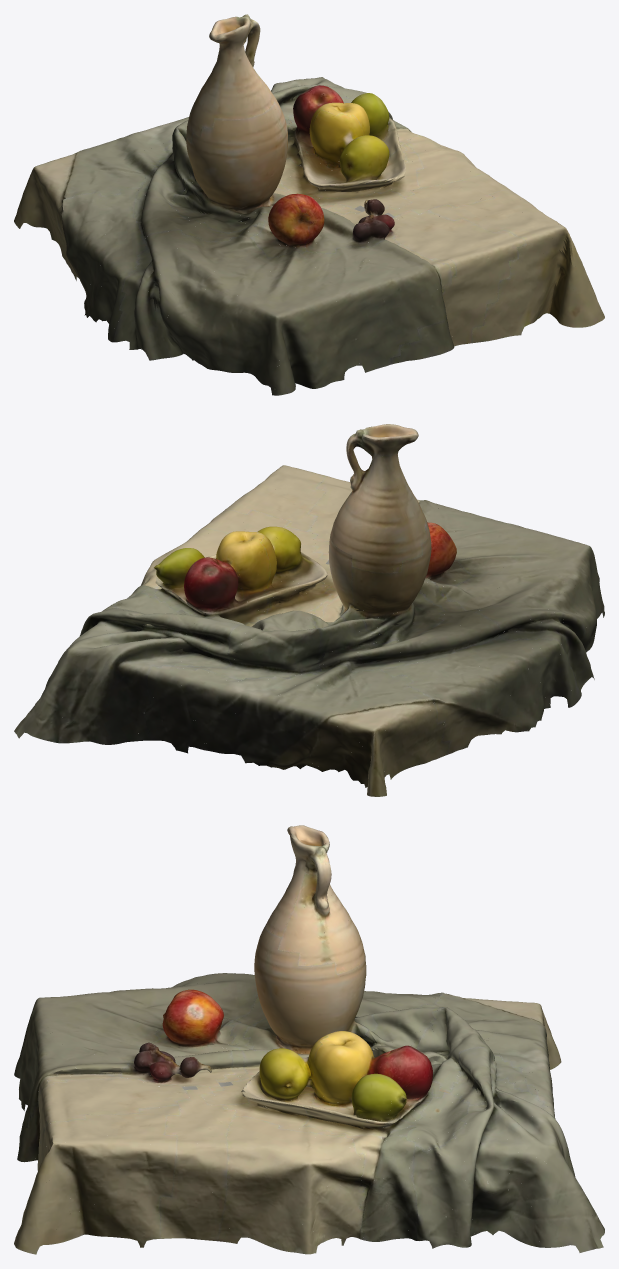
The model's file is 静物_其它_陶罐水果组合02_opt.glb.
3 views of the same model, one above another, from view 1: azimuth 30°, elevation 25°; view 2: azimuth 150°, elevation 25°; view 3: azimuth 270°, elevation 25° (orthographic). The views are drawn at different scales.
Parts seen in each view (by area): view 1: defaultMat, defaultMat_1; view 2: defaultMat, defaultMat_1; view 3: defaultMat, defaultMat_1.
Boxes of the visible parts, x1,y1,x2,y2 form: defaultMat: (14,14,604,395); defaultMat_1: (20,23,604,394); defaultMat: (14,424,604,796); defaultMat_1: (15,425,603,793); defaultMat: (14,825,604,1254); defaultMat_1: (17,826,601,1254).
Bounding box in the file's own units: 0.9524 × 0.6 × 1.11.
1 material, 1 textured.
